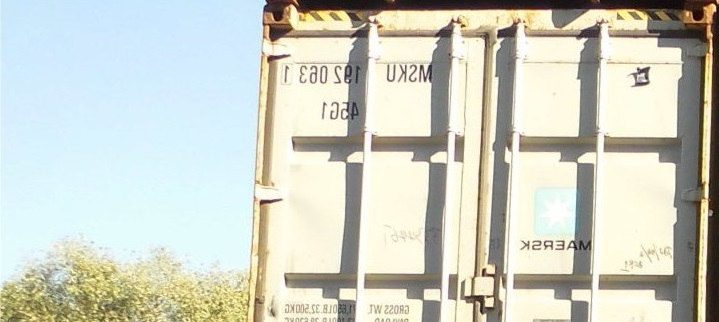container_door: (246, 6, 705, 319)
